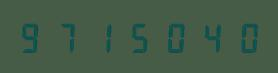five: (122, 20, 156, 53)
four: (192, 20, 226, 53)
nine: (17, 20, 51, 53)
one: (87, 20, 121, 53)
seven: (52, 20, 86, 53)
zero: (157, 20, 191, 53), (227, 20, 261, 53)
